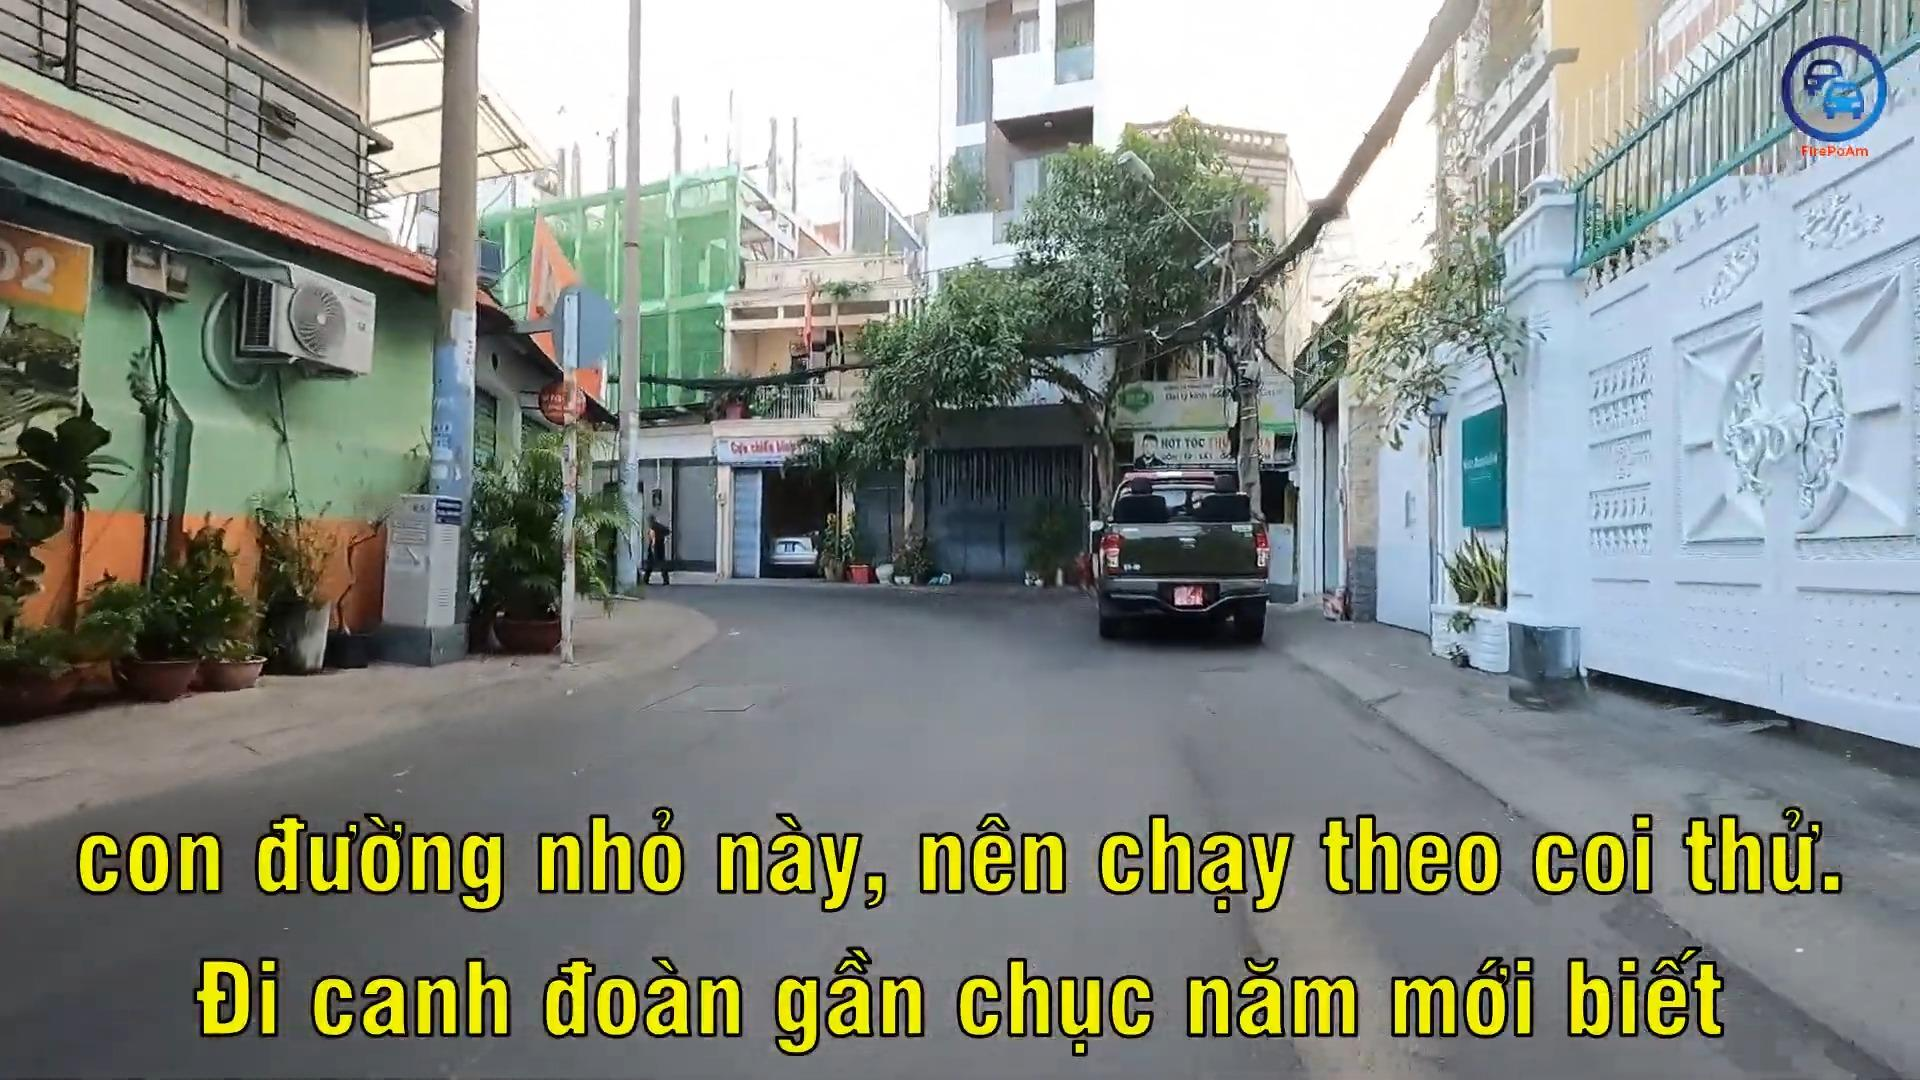bien_so: (1173, 585, 1204, 607)
